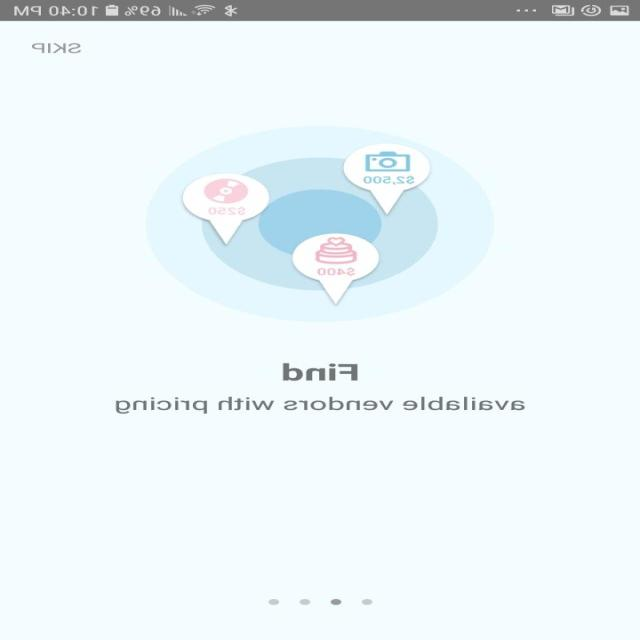Image: (145, 125, 495, 323)
Text: (115, 396, 526, 414), (283, 362, 358, 381), (32, 43, 82, 53)
